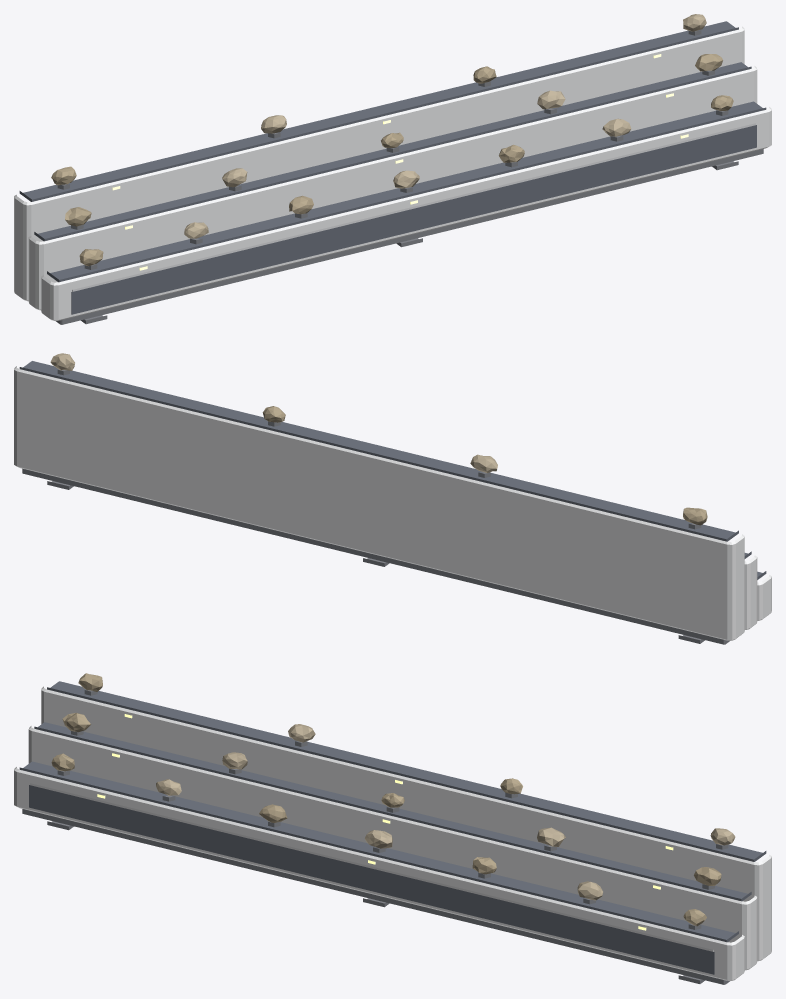
File: ext_ts4_dead_foliage_05.glb
3 views of the same model, one above another, from view 1: azimuth 30°, elevation 25°; view 2: azimuth 150°, elevation 25°; view 3: azimuth 330°, elevation 25° (orthographic).
Visible parts, largest first — view 1: Tiers, Tier_Lids, Reservoir, Base_Frame, Foliage, Foliage_Light, Reservoir_Seal, Net_Cup_Clips; view 2: Tiers, Tier_Lids, Base_Frame, Foliage_Light, Foliage; view 3: Tiers, Tier_Lids, Reservoir, Base_Frame, Foliage, Foliage_Light, Reservoir_Seal, Net_Cup_Clips.
Boxes of the visible parts, x1,y1,x2,y2 form: Tiers: [14, 26, 771, 320]; Tier_Lids: [19, 21, 766, 282]; Reservoir: [71, 125, 756, 314]; Base_Frame: [56, 149, 763, 324]; Foliage: [51, 54, 733, 266]; Foliage_Light: [184, 14, 706, 238]; Reservoir_Seal: [72, 123, 755, 291]; Net_Cup_Clips: [57, 30, 728, 269]; Tiers: [14, 366, 771, 640]; Tier_Lids: [19, 361, 766, 579]; Base_Frame: [22, 468, 730, 644]; Foliage_Light: [50, 353, 497, 473]; Foliage: [262, 406, 707, 525]; Tiers: [14, 686, 771, 980]; Tier_Lids: [19, 681, 766, 942]; Reservoir: [29, 785, 714, 974]; Base_Frame: [22, 809, 729, 984]; Foliage: [51, 673, 721, 926]; Foliage_Light: [156, 724, 735, 900]; Reservoir_Seal: [30, 783, 713, 951]; Net_Cup_Clips: [57, 690, 728, 929].
Bounding box in the file's own units: 4 × 0.6859 × 0.406.
